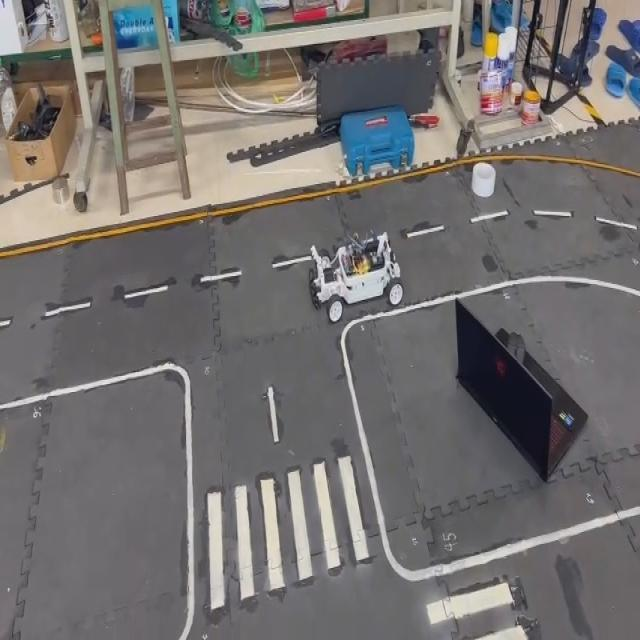SiCo-CAR: (307, 227, 404, 324)
